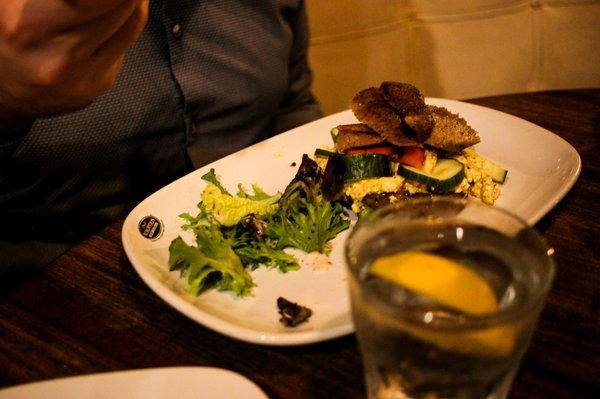soup: (318, 80, 508, 206)
